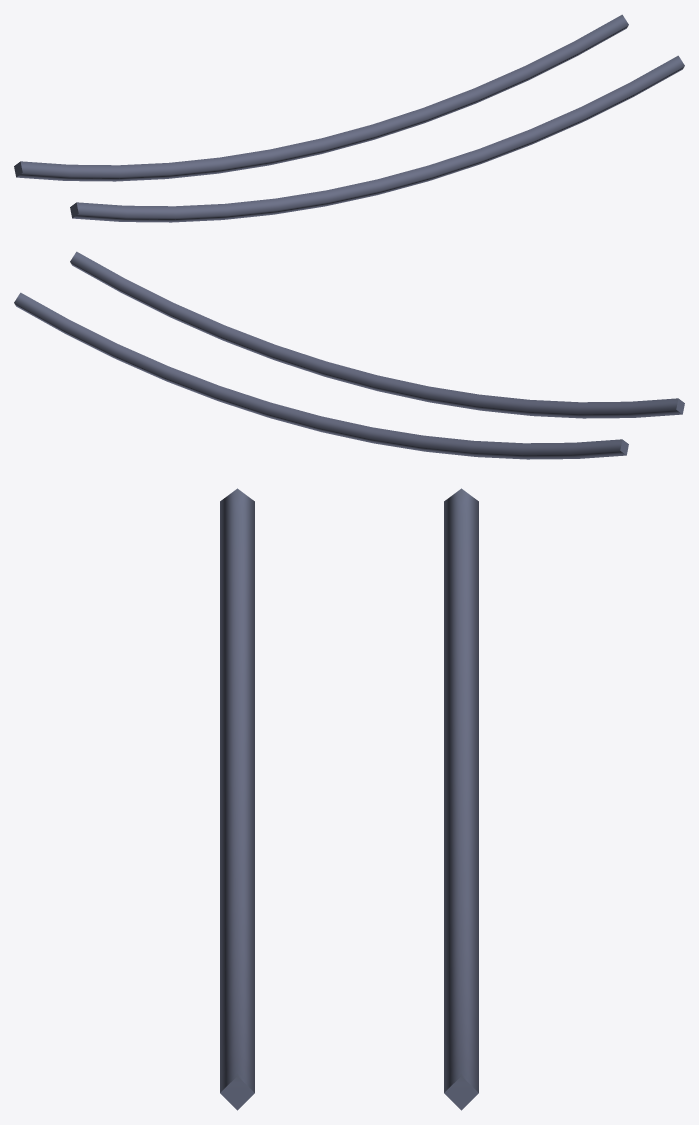
Rendered from road_electricity_wires_wide.glb.
The picture shows the model from 3 angles, top to bottom: view 1: azimuth 30°, elevation 25°; view 2: azimuth 150°, elevation 25°; view 3: azimuth 270°, elevation 25°; orthographic projection. The views are drawn at different scales.
Visible parts, largest first — view 1: electricity-wires-wide; view 2: electricity-wires-wide; view 3: electricity-wires-wide.
Boxes of the visible parts, x1=… form: electricity-wires-wide: x1=14, y1=14, x2=684, y2=222; electricity-wires-wide: x1=14, y1=251, x2=684, y2=459; electricity-wires-wide: x1=220, y1=488, x2=478, y2=1110.
Size of the model in its own units: 1.01 by 0.1045 by 0.185.
1 material, 1 textured.
